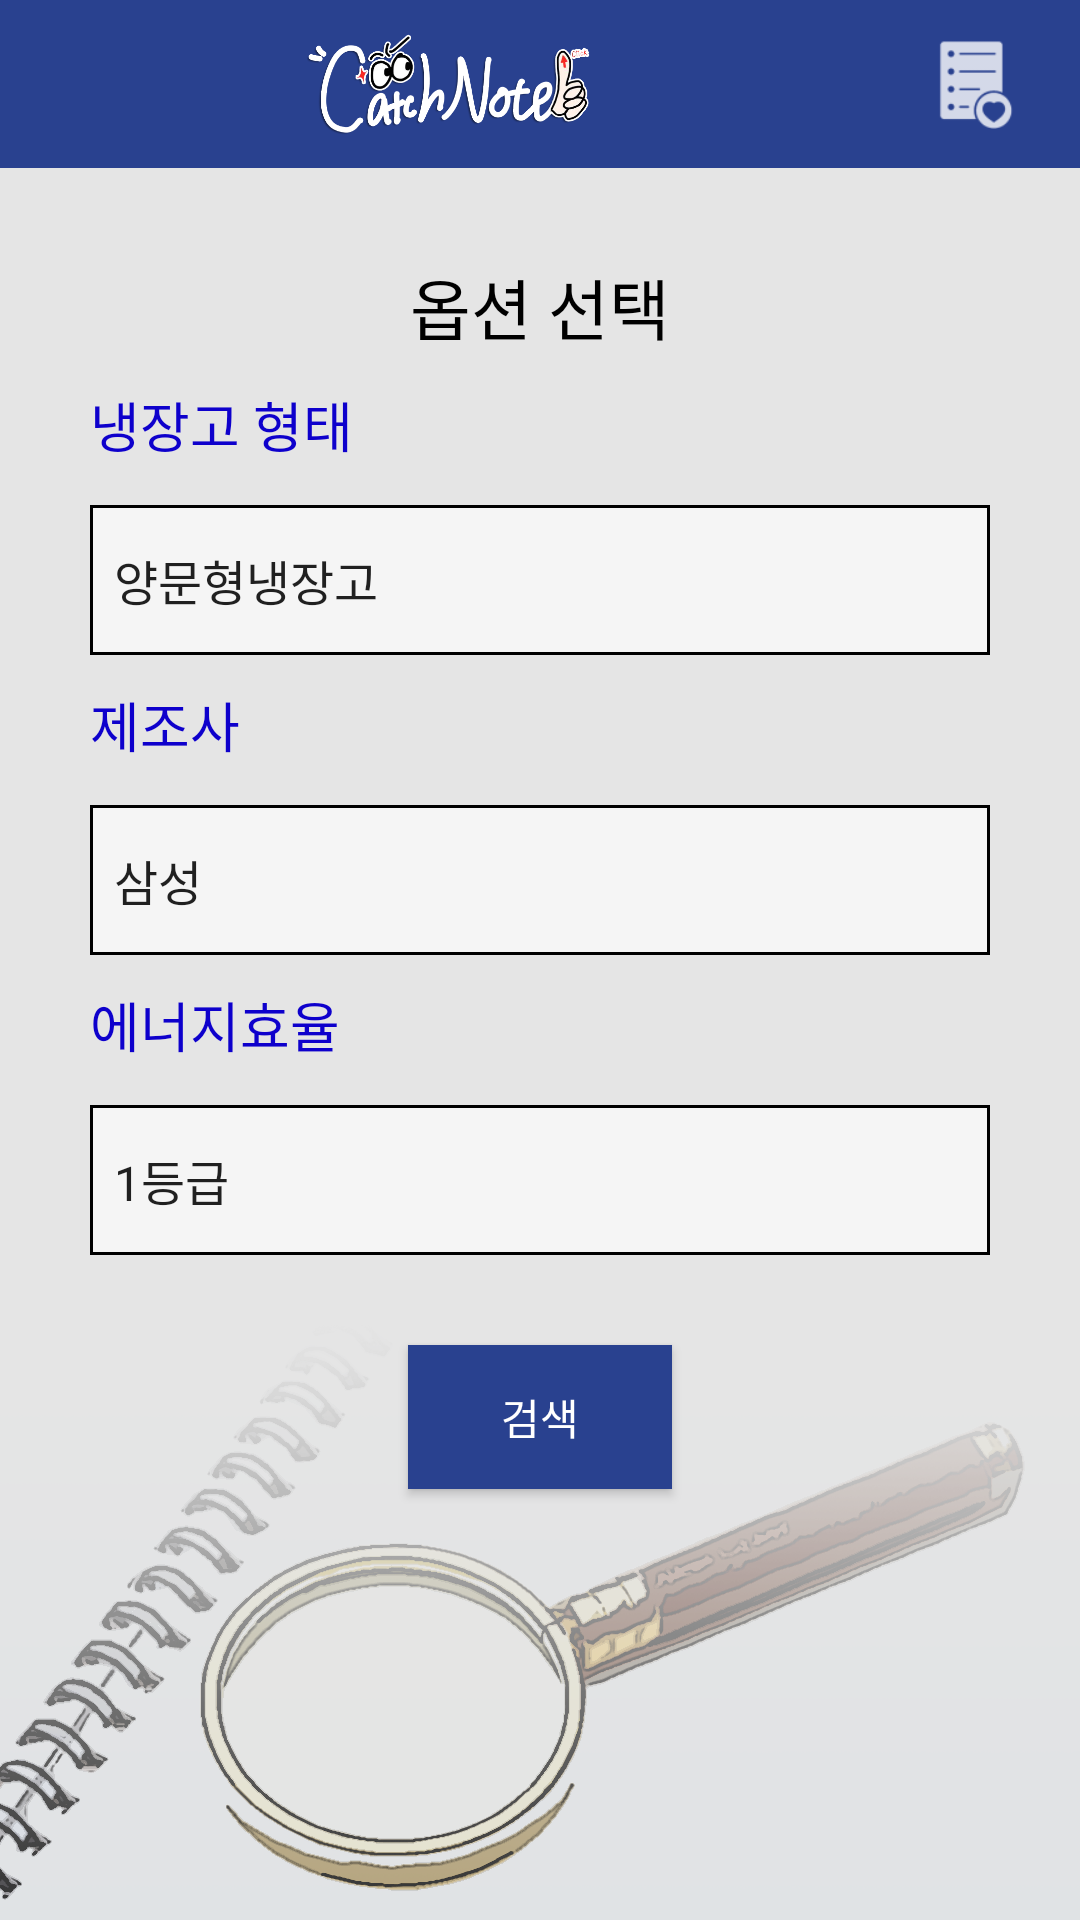

Where to tap for icons on this 1080w x 1920h app screen, as (x,y):
wishlist: (976,85)
